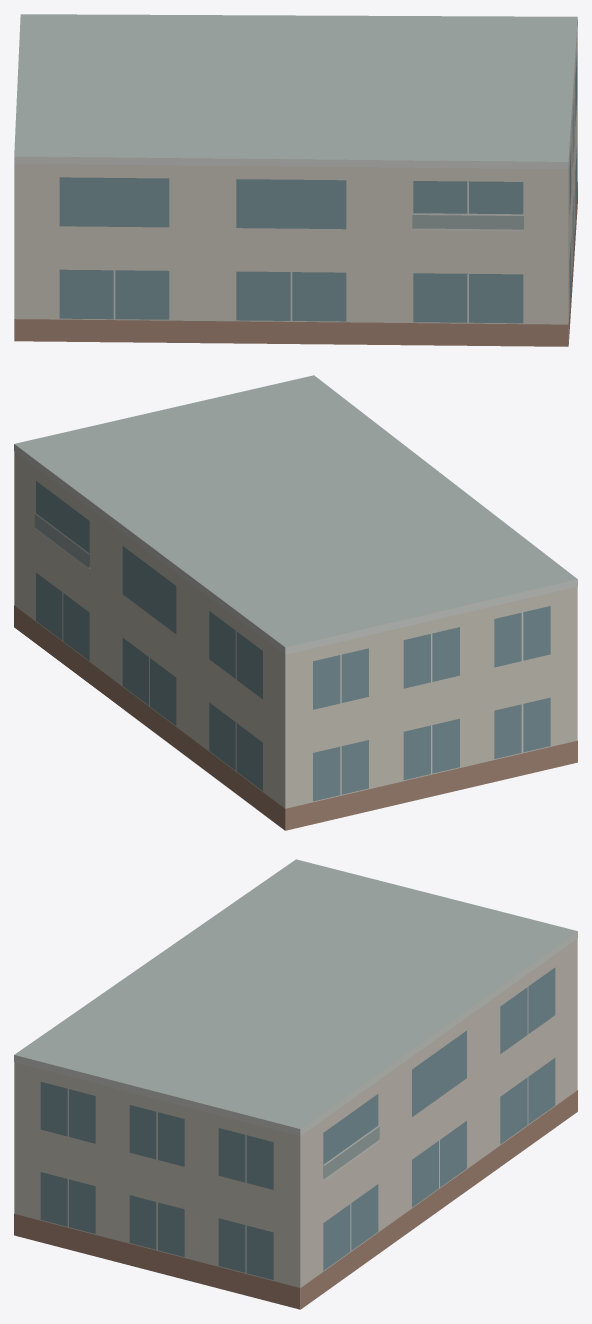
Rendered from survey-upis-32874346.glb.
3 views of the same model, one above another, from view 1: azimuth 30°, elevation 25°; view 2: azimuth 150°, elevation 25°; view 3: azimuth 270°, elevation 25° (orthographic). The views are drawn at different scales.
Visible parts, largest first — view 1: survey-upis-32874346.tmp; view 2: survey-upis-32874346.tmp; view 3: survey-upis-32874346.tmp.
Boxes of the visible parts, x1,y1,x2,y2 form: survey-upis-32874346.tmp: [14, 14, 577, 346]; survey-upis-32874346.tmp: [14, 375, 577, 830]; survey-upis-32874346.tmp: [14, 859, 577, 1309].
Size of the model in its own units: 19.57 by 6.1 by 17.27.
